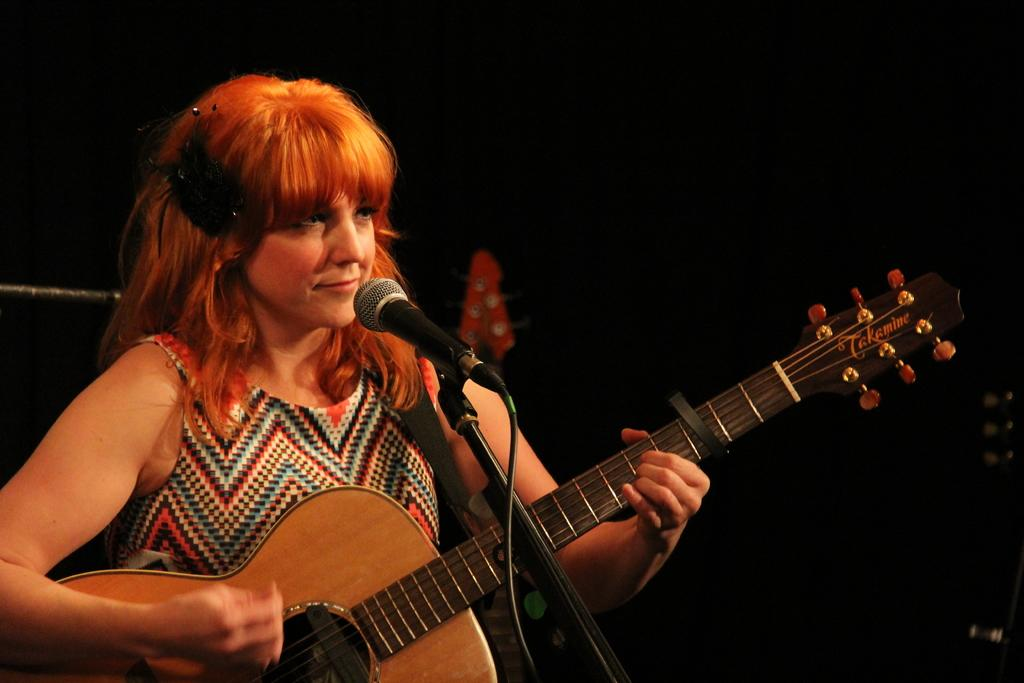Sem Máscara: (238, 188, 378, 322)
